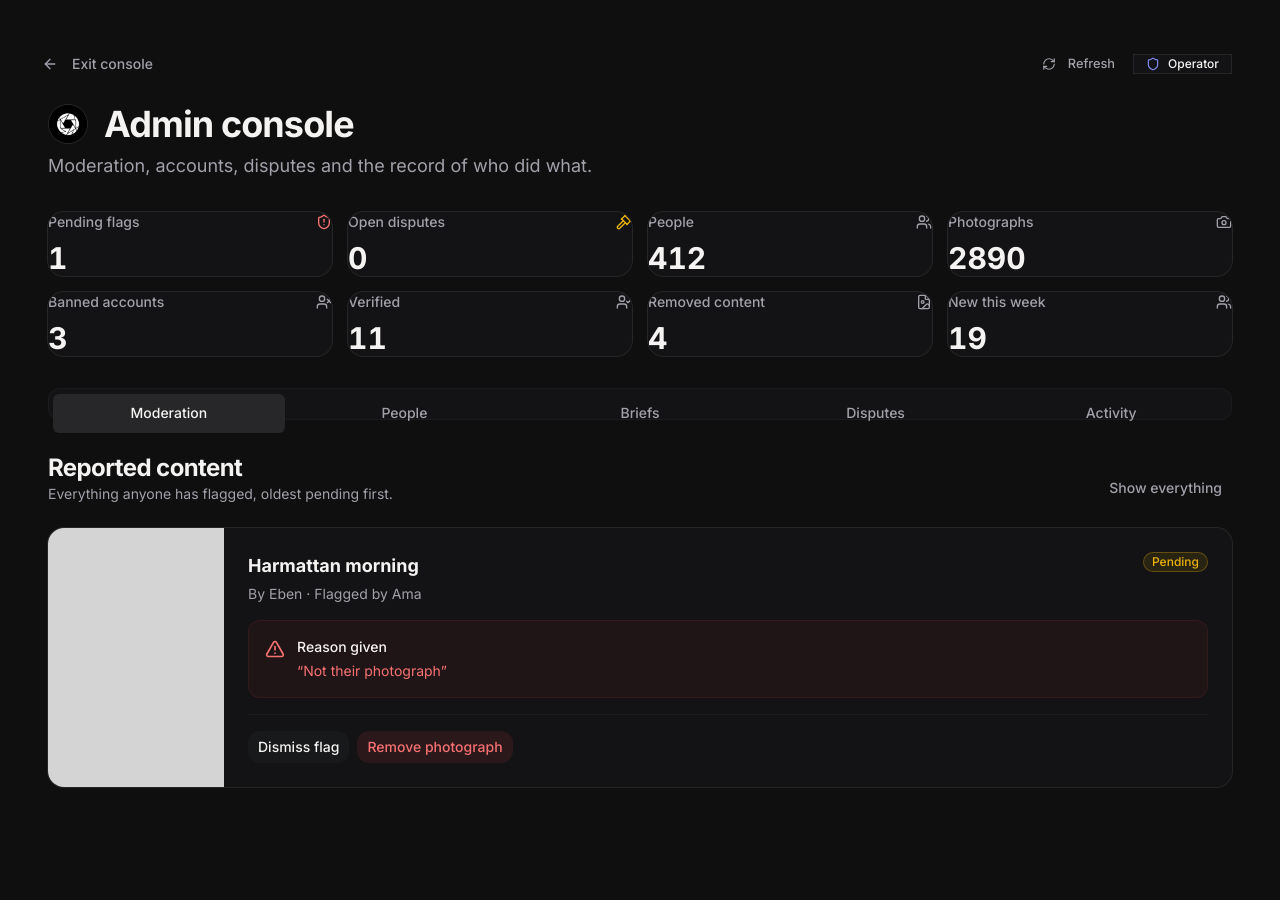
Test case: AdminPage › asks for a reason before taking something down
Click the button "Remove photograph": x=435, y=747 left=357, top=731, right=512, bottom=763
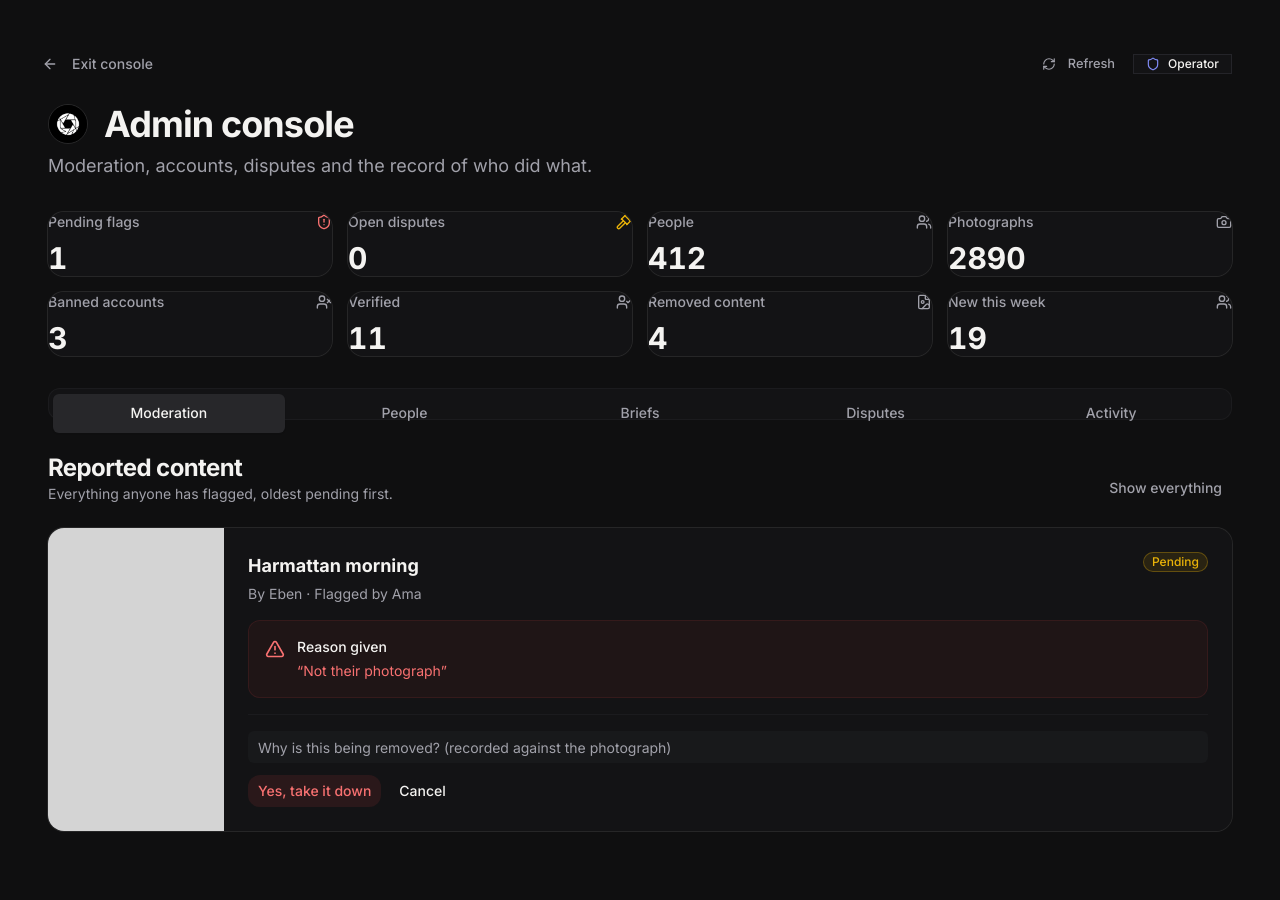
expect the field with placeholder "Why is this being removed" is shown: met, box left=248, top=731, right=1208, bottom=763
